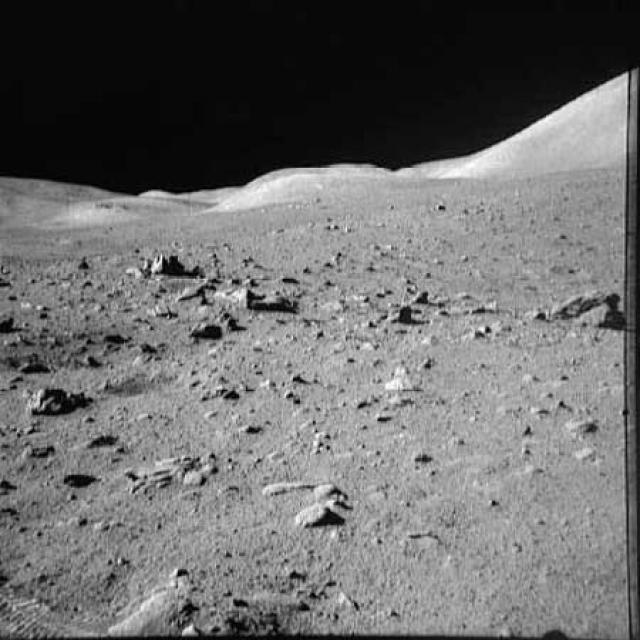crater: (0, 320, 144, 377), (98, 365, 182, 397)
rock: (534, 284, 628, 340), (174, 277, 302, 317), (118, 242, 204, 282), (183, 305, 249, 344), (28, 378, 79, 422), (380, 353, 422, 398), (380, 290, 430, 325), (289, 501, 340, 534), (307, 469, 353, 503)
